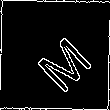M_NW: (21, 21, 89, 89)
